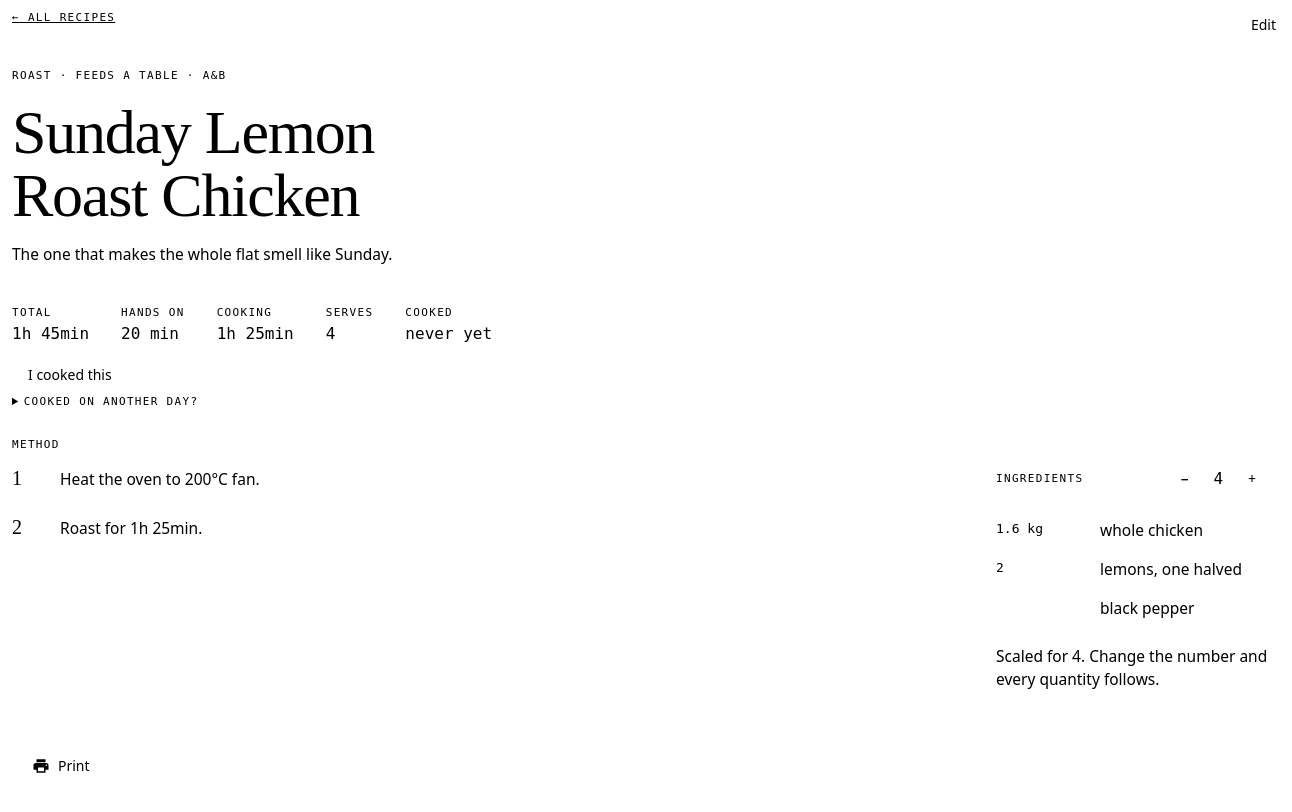
it: RecipeDetailPage populated › rescales ingredients and the Serves stat together
The width and height of the screenshot is (1292, 812).
Expected: the heading "Sunday Lemon Roast Chicken" is shown, [12,98,374,229]
Click the button named "Increase servings" at [1252, 479], box [1236,463,1268,495]
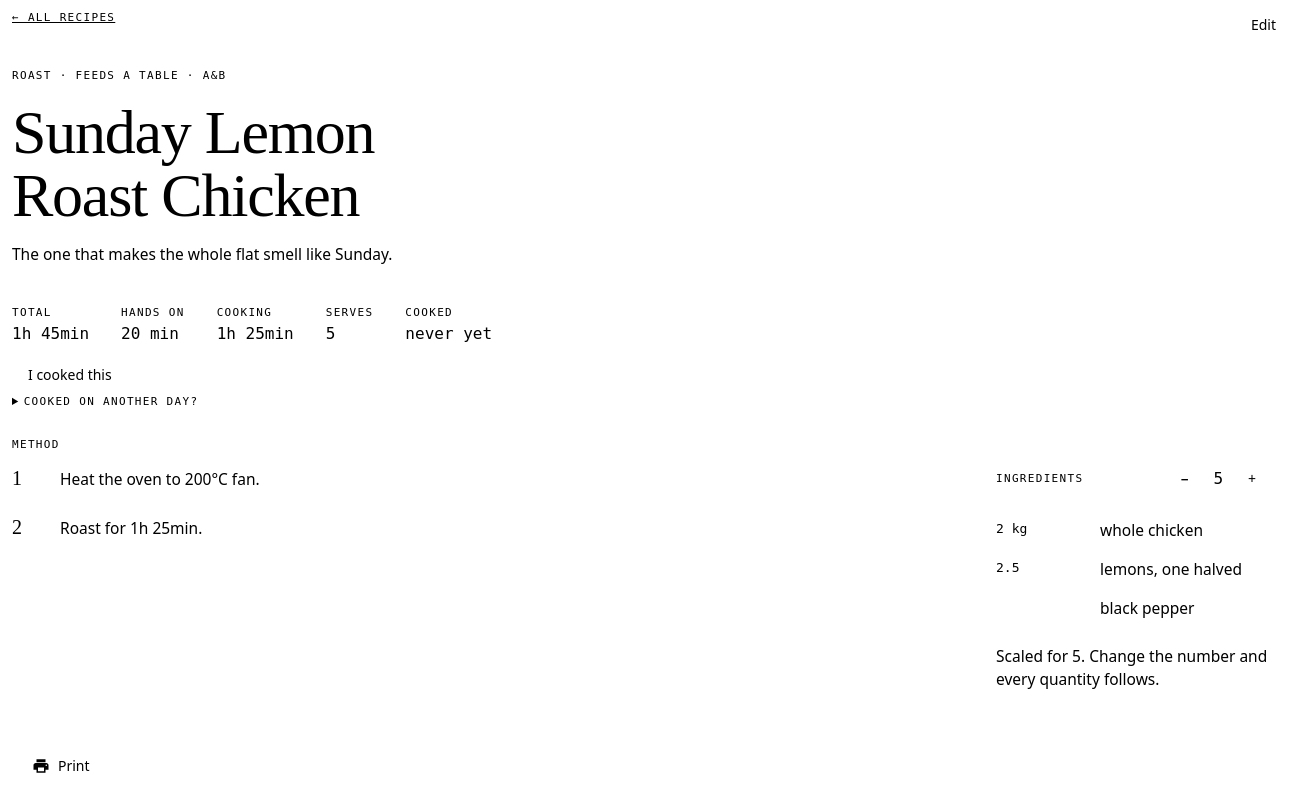
Click the button named "Increase servings" at [1252, 479], box [1236,463,1268,495]
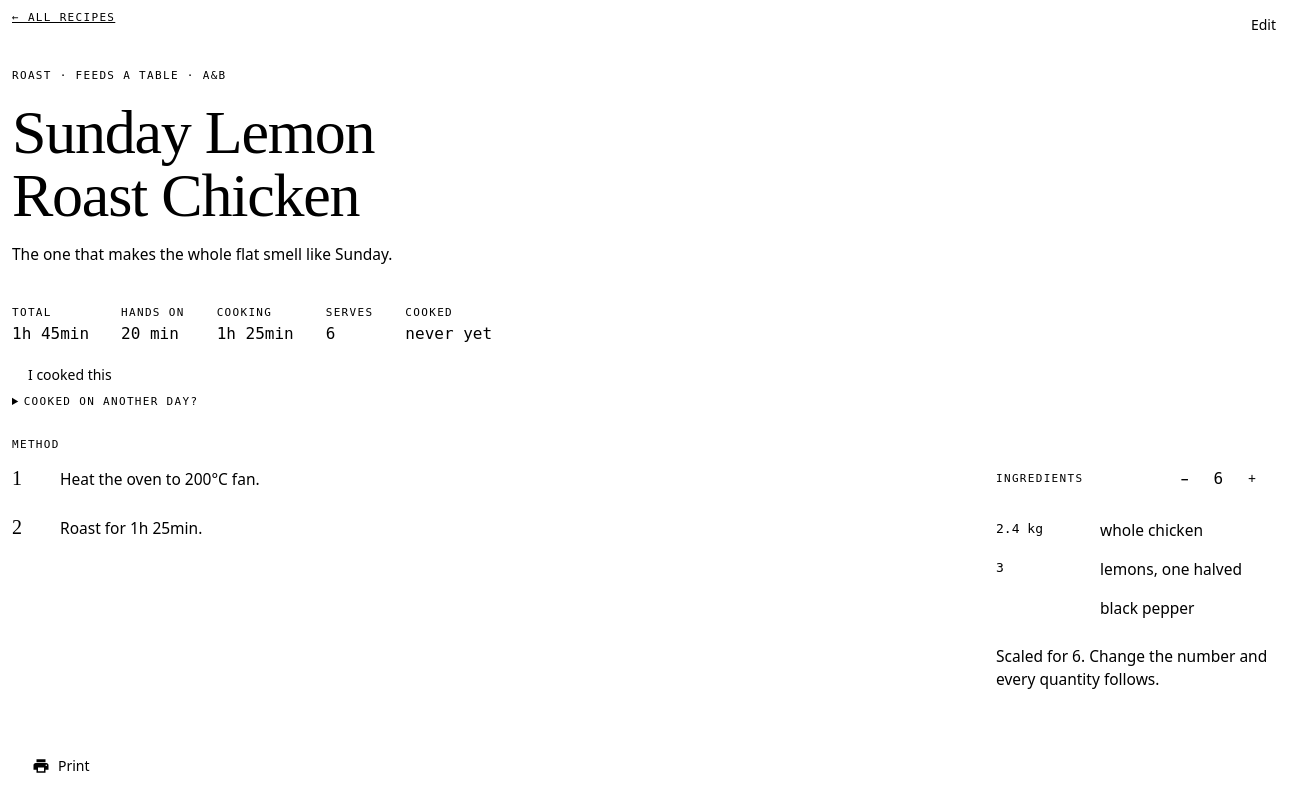
Click the button named "Increase servings" at [1252, 479], box [1236,463,1268,495]
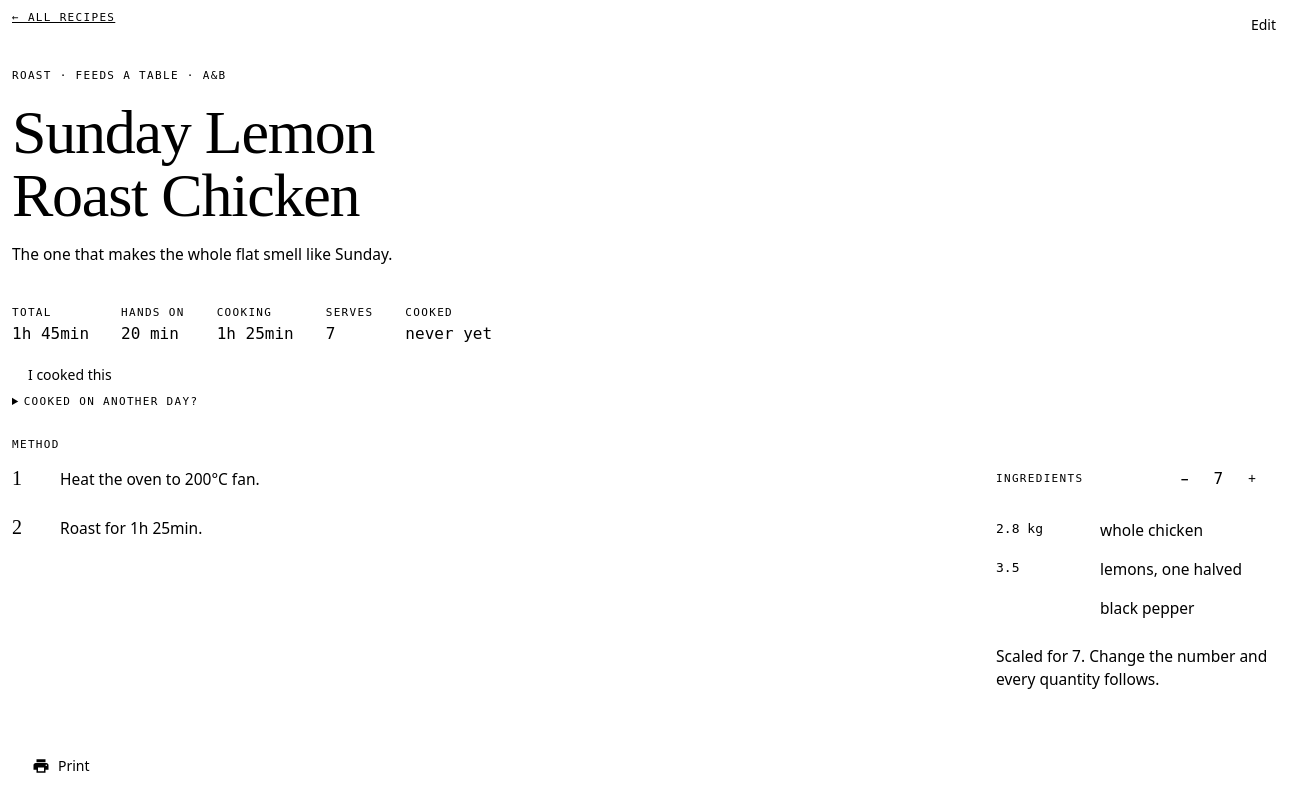
Click the button named "Increase servings" at [1252, 479], box [1236,463,1268,495]
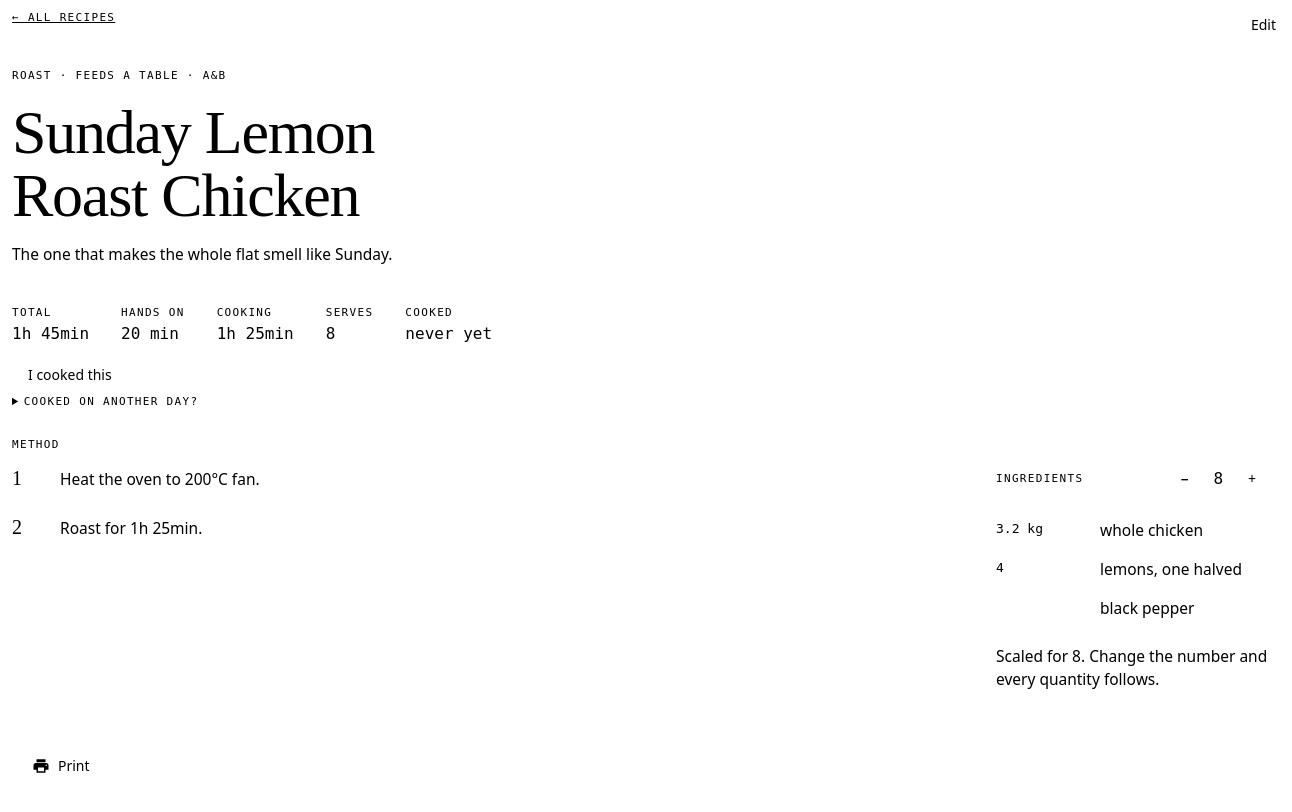
Now the text "3.2 kg" is shown, box [996,521,1043,536]
Now the text "4" is shown, box [996,560,1004,575]
Now the text with test id "serves" reads "8", box [326,324,335,343]
